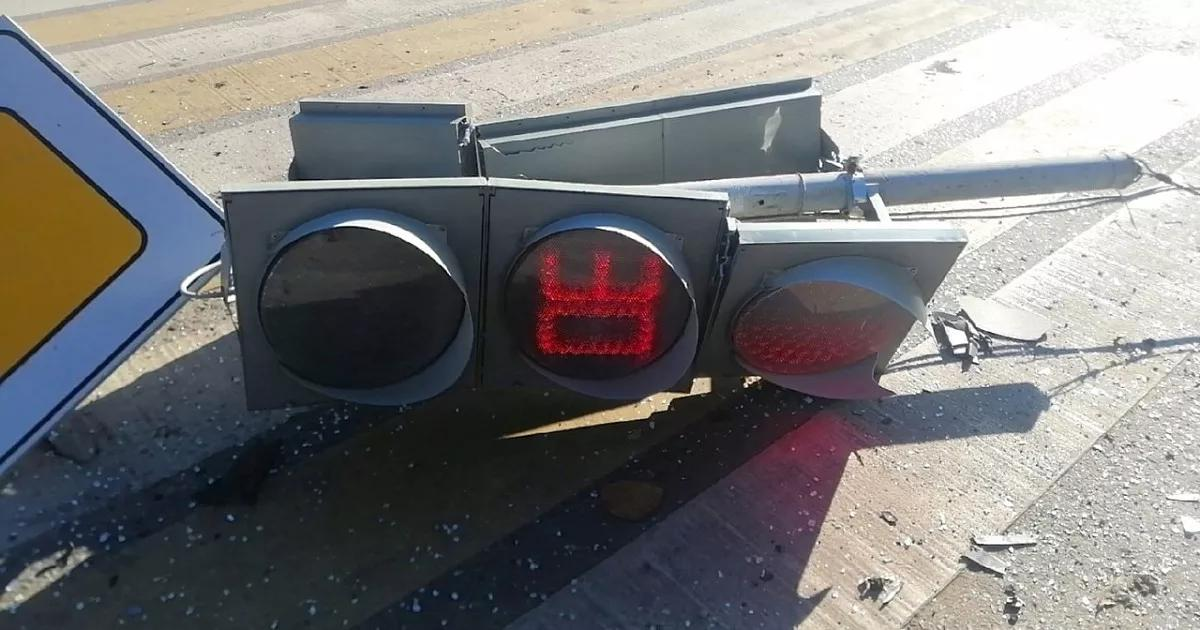obstructed_road_sign: (0, 16, 223, 473)
traffic light: (217, 186, 972, 416)
